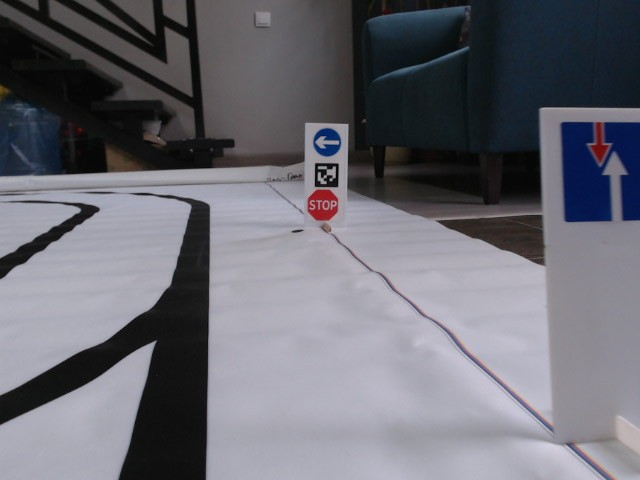Stop: (306, 188, 338, 221)
priority_movement: (558, 119, 640, 226)
